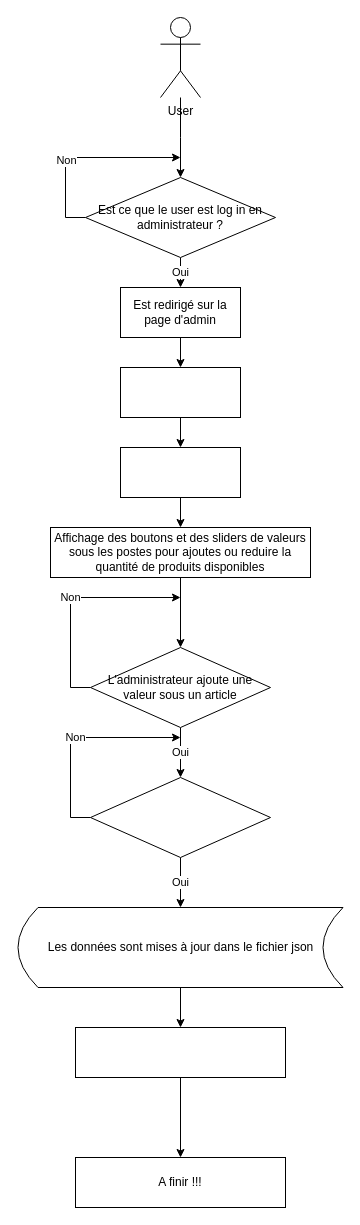
The diagram is 360 pixels wide and 1225 high, and some of its shapes have lost their labels. The centre of each missing label's shape, as x and y in pixels:
"Affichage des articles" goes at pixel 180 472.
"Affichage du bonton logout" goes at pixel 180 392.
"L'administrateur appuie sur le bouton submit ?" goes at pixel 180 817.
"Rafraichi les données sur la page d'admin et d'accueil" goes at pixel 180 1052.
